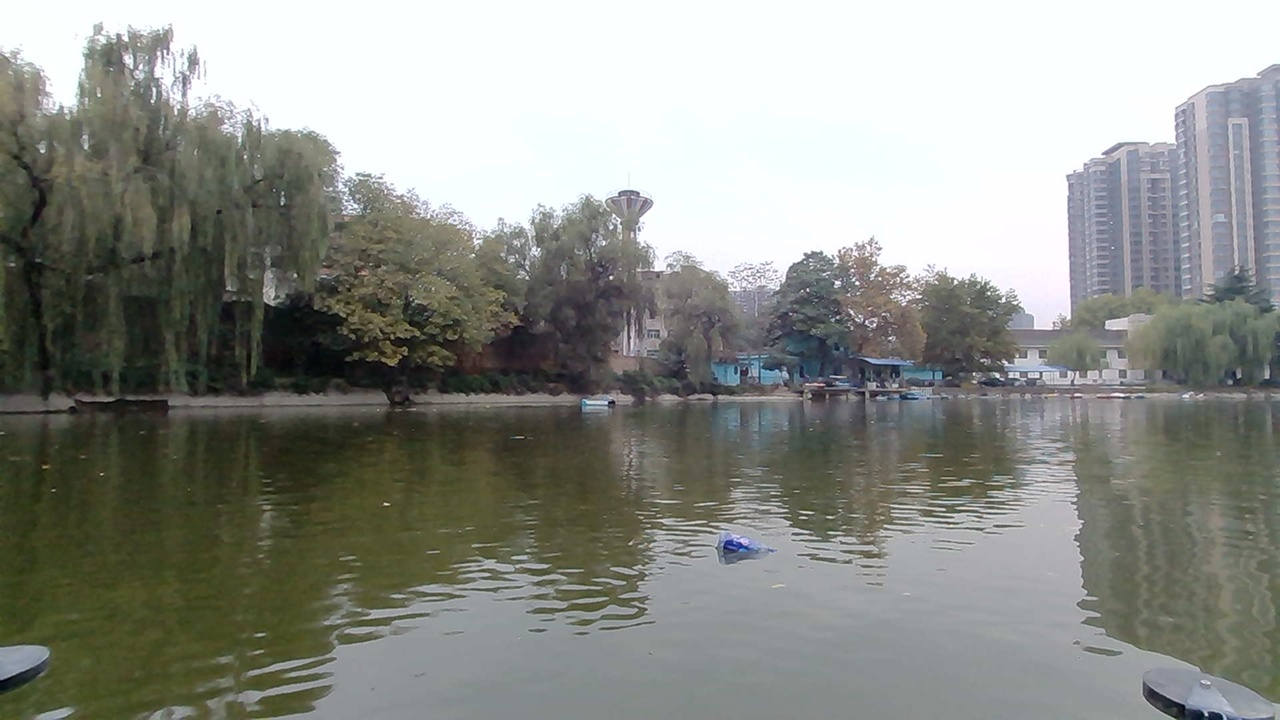bottle: (719, 532, 764, 566)
